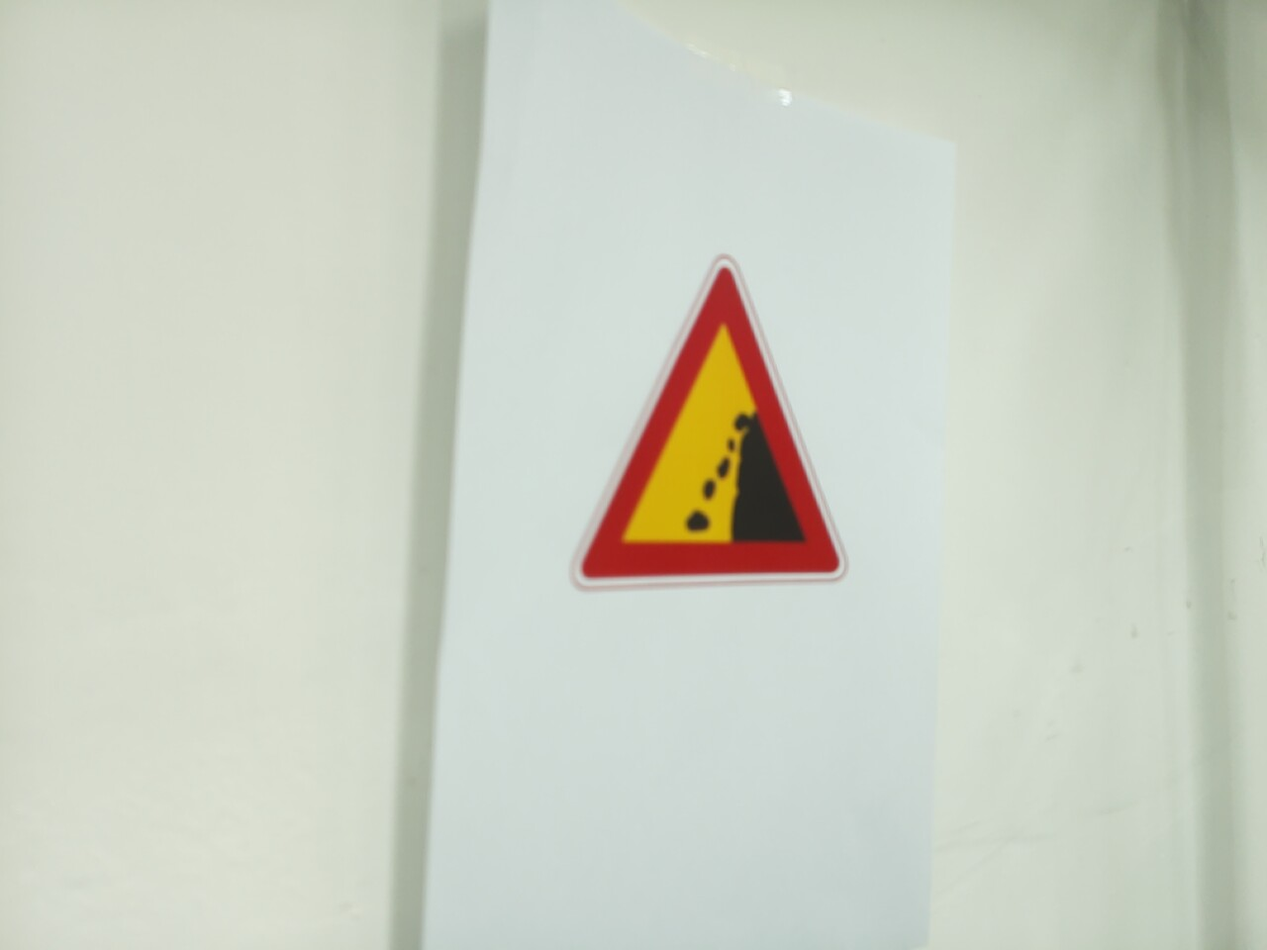falling_rocks: (573, 257, 848, 588)
